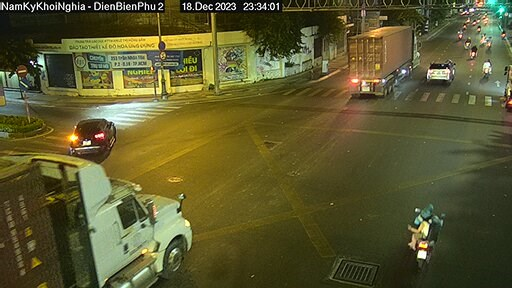car: (69, 113, 117, 154), (427, 58, 453, 83)
motorbike: (404, 200, 443, 261), (481, 58, 494, 77)
truck: (9, 146, 198, 277), (336, 21, 422, 95)
